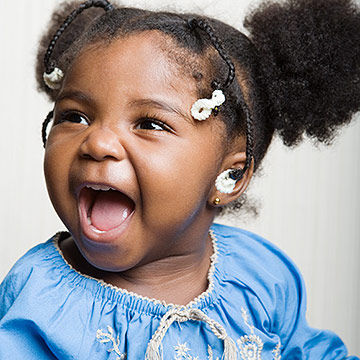happy: (41, 72, 207, 279)
